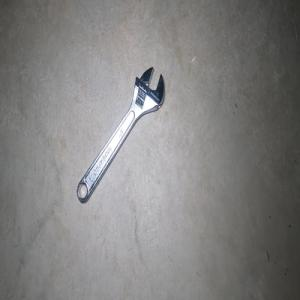Wrench: (76, 66, 164, 203)
